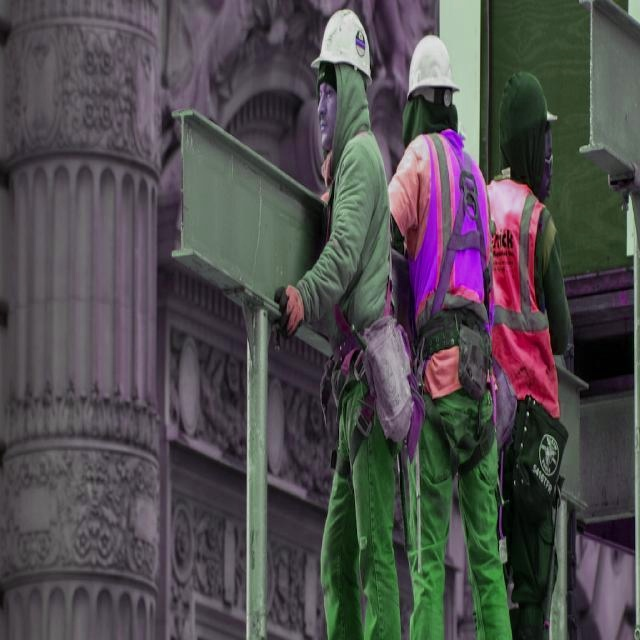safety belt: (470, 174, 571, 384), (421, 148, 495, 395)
